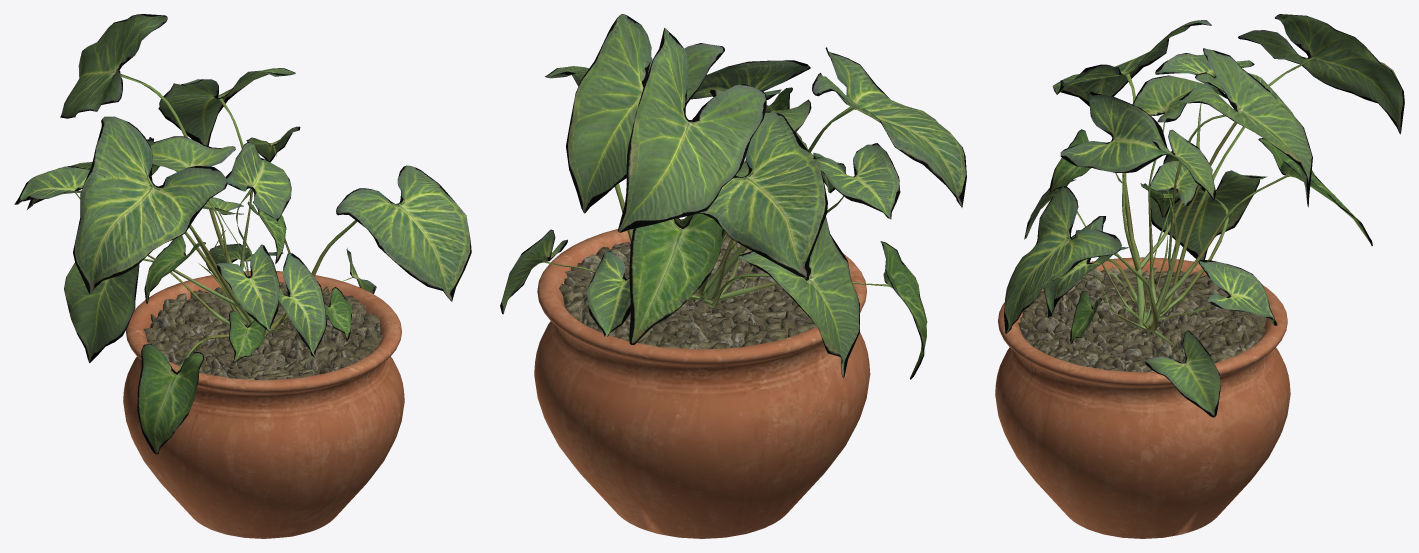
The model's file is potted_plant_02.glb.
The picture shows the model from 3 angles, left to right: view 1: azimuth 30°, elevation 25°; view 2: azimuth 150°, elevation 25°; view 3: azimuth 270°, elevation 25°; orthographic projection. The views are drawn at different scales.
Visible parts, largest first — view 1: potted_plant_02_leaves, potted_plant_02_pot; view 2: potted_plant_02_leaves, potted_plant_02_pot; view 3: potted_plant_02_pot, potted_plant_02_leaves.
Boxes of the visible parts, left/top/right/bottom form: potted_plant_02_leaves: left=14, top=14, right=471, bottom=454; potted_plant_02_pot: left=123, top=271, right=404, bottom=538; potted_plant_02_leaves: left=500, top=14, right=966, bottom=379; potted_plant_02_pot: left=534, top=219, right=870, bottom=538; potted_plant_02_pot: left=995, top=257, right=1290, bottom=538; potted_plant_02_leaves: left=1004, top=14, right=1404, bottom=417.
Size of the model in its own units: 0.7012 by 0.8412 by 0.6574.
Materials: 2 (2 with a texture image).
